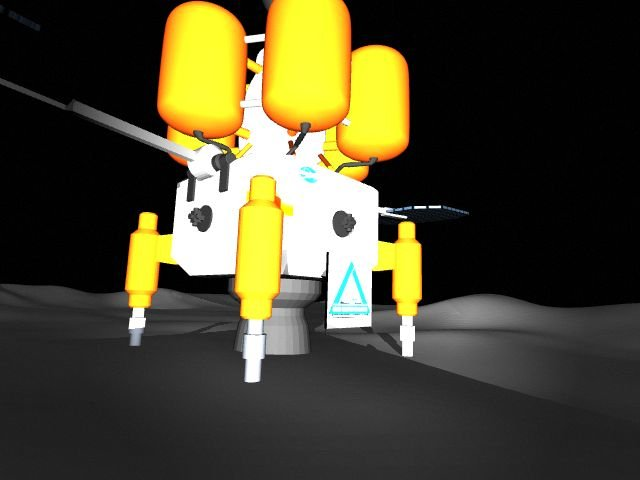basemarker: (328, 259, 371, 319)
